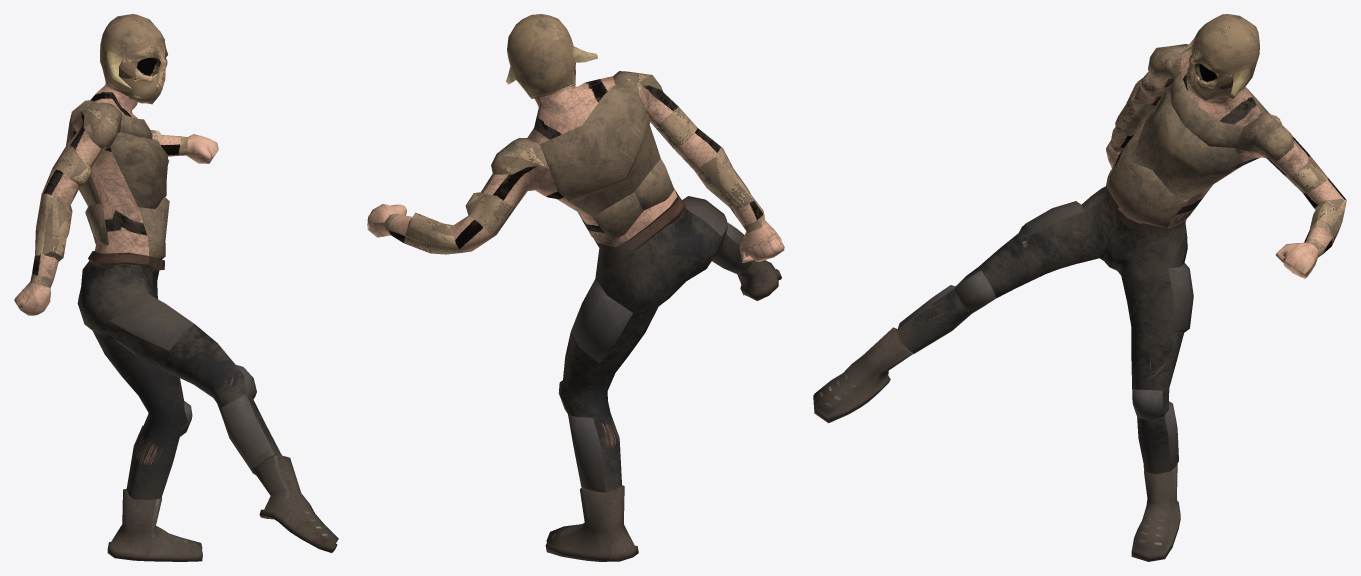
The model's file is Anim_ataque_f2_npc1.0021.obj.
3 views of the same model, side by side, from view 1: azimuth 30°, elevation 25°; view 2: azimuth 150°, elevation 25°; view 3: azimuth 270°, elevation 25° (orthographic). The views are drawn at different scales.
Parts seen in each view (by area): view 1: NPC2; view 2: NPC2; view 3: NPC2.
Boxes of the visible parts, box(x1,y1,x2,y2) form: NPC2: box(14, 14, 338, 561); NPC2: box(367, 14, 784, 561); NPC2: box(813, 14, 1346, 561).
Size of the model in its own units: 5.34 by 9.15 by 8.36.
